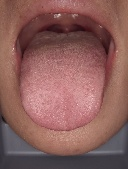tongue: (18, 48, 106, 132)
